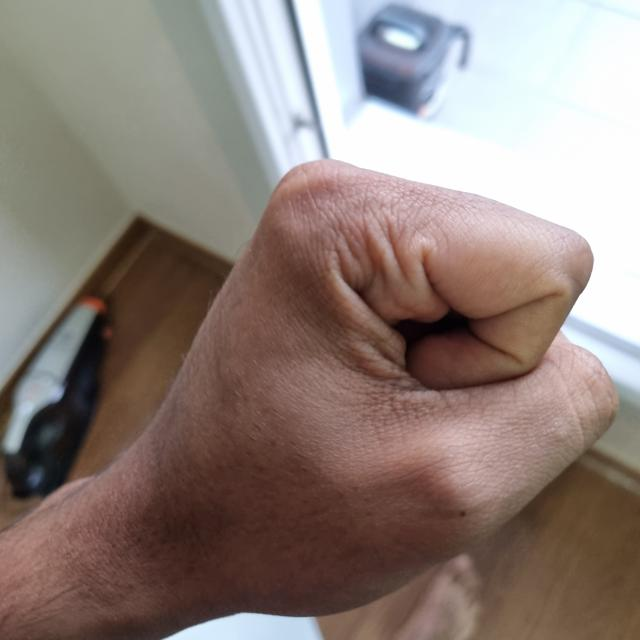Rock: (112, 162, 610, 617)
